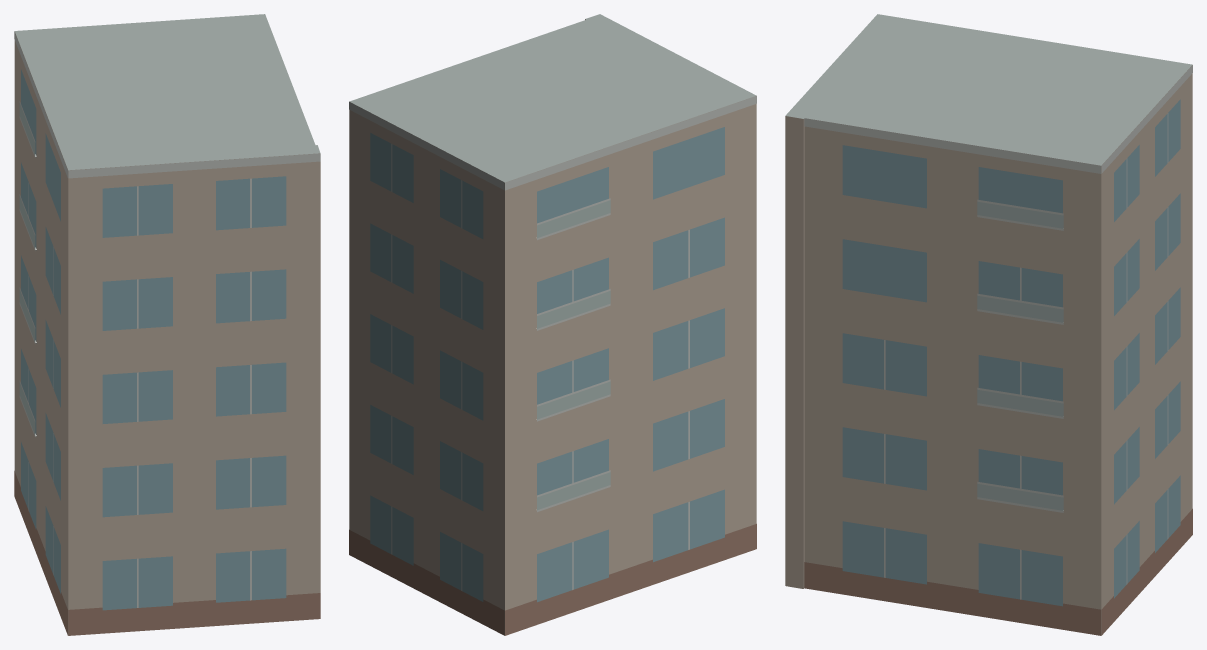
File: survey-upis-32515520.glb
3 views of the same model, side by side, from view 1: azimuth 30°, elevation 25°; view 2: azimuth 150°, elevation 25°; view 3: azimuth 270°, elevation 25° (orthographic). The views are drawn at different scales.
Parts seen in each view (by area): view 1: survey-upis-32515520.tmp; view 2: survey-upis-32515520.tmp; view 3: survey-upis-32515520.tmp.
Boxes of the visible parts, x1,y1,x2,y2 form: survey-upis-32515520.tmp: [14, 14, 320, 635]; survey-upis-32515520.tmp: [349, 14, 756, 635]; survey-upis-32515520.tmp: [785, 14, 1192, 635].
Size of the model in its own units: 9.56 by 13.8 by 10.85.
